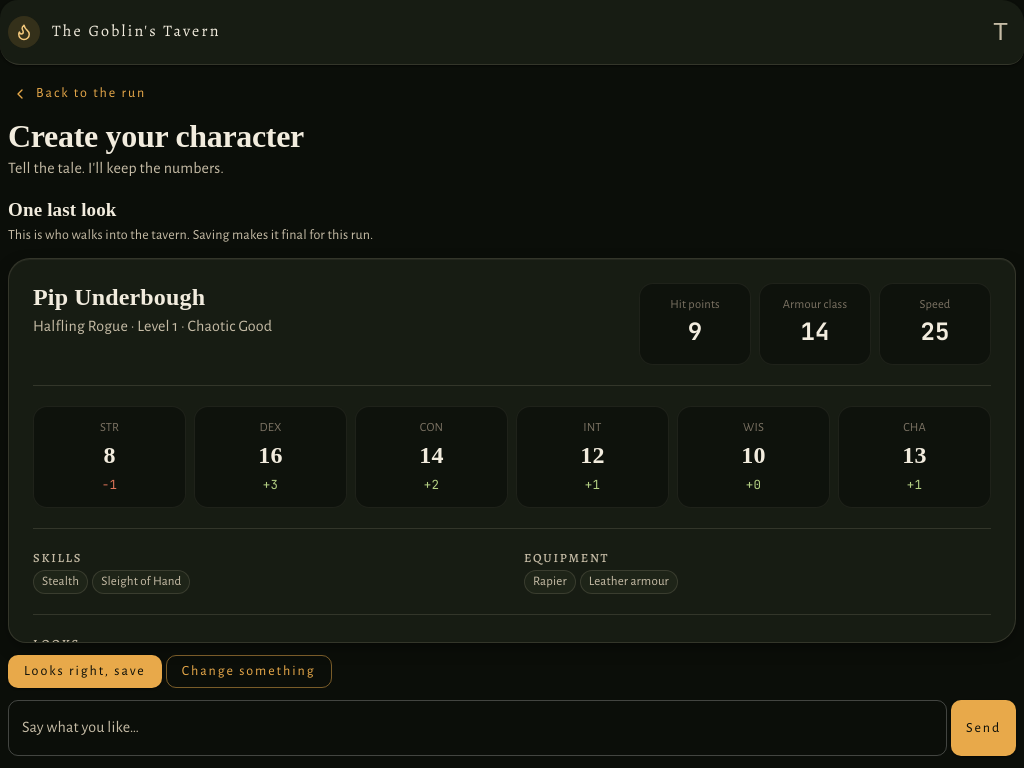
Test: CreationChatRoute's review and save (sprint 009-07, WI1, AC1-AC3, AC5-AC6) › after 'Change something', the keeper's answer to the change stays on screen while the backend still reports the review
Click the button "Change something": [249, 672] box [166,655,332,688]
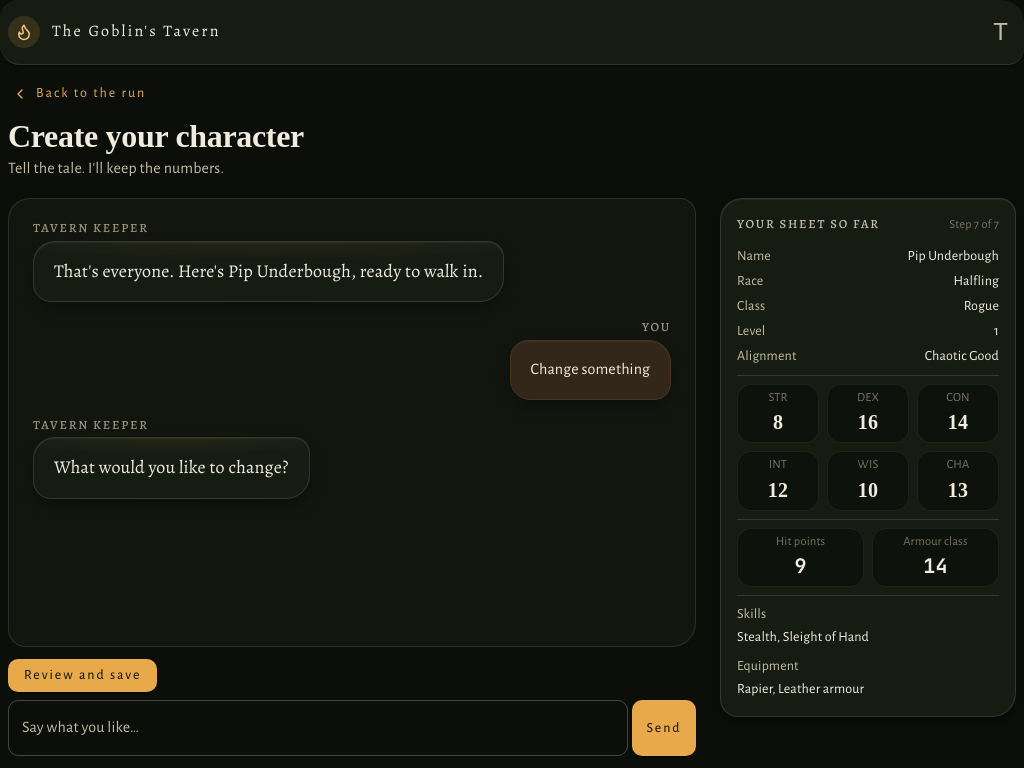
Check: the text "What would you like to change?" is shown, box [54,454,288,482]
In the field labelled "Say what you like…": [318, 728] box [8,700,628,756], type "Make him older"
Then press Enter
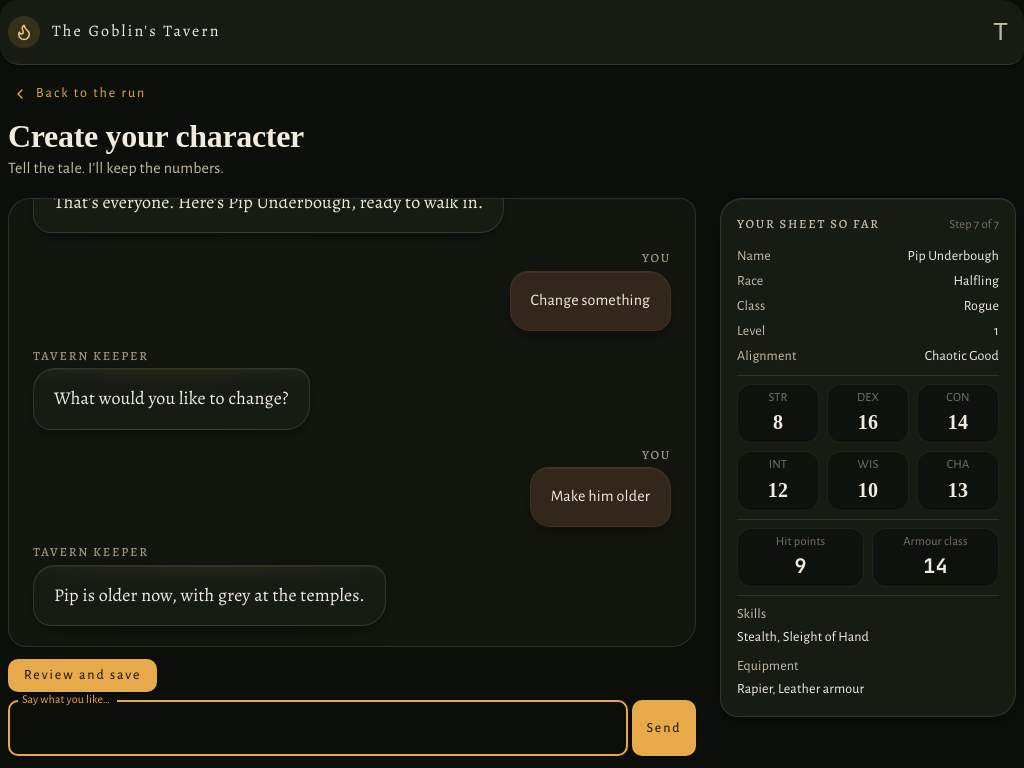
Check: the heading "One last look" is not shown
Check: the text "Pip is older now, with grey at the temples." is shown, box [54,582,365,609]
Click the button "Review and save": [83, 676] box [8,659,157,692]
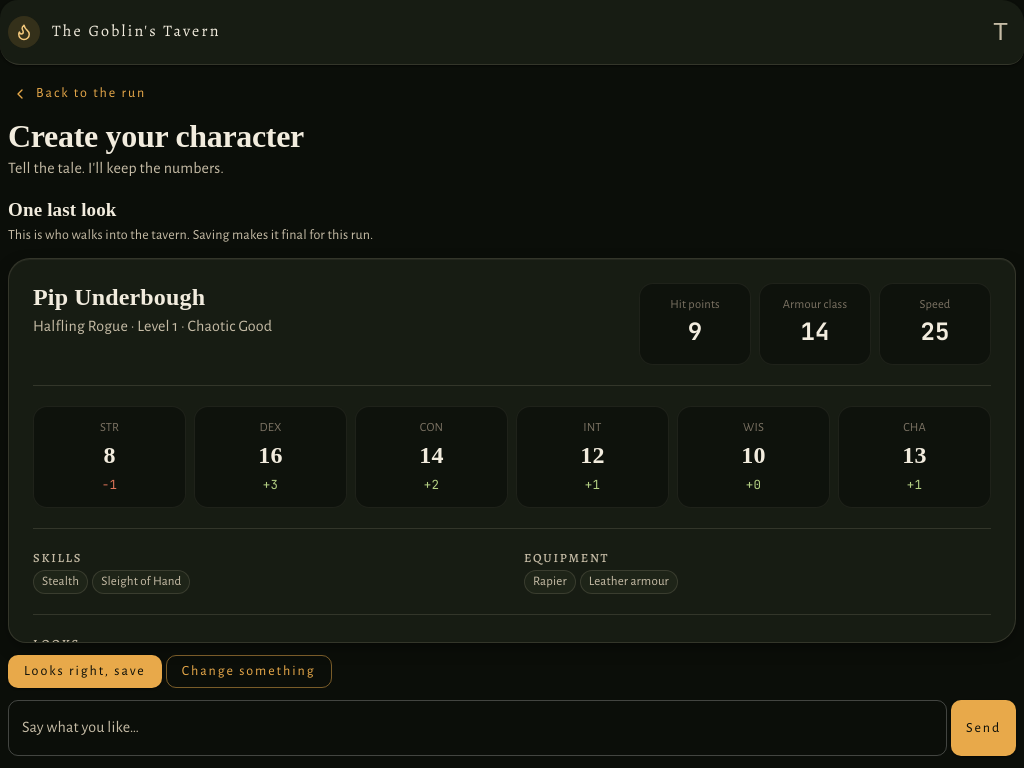
Check: the element "One last look" is shown
